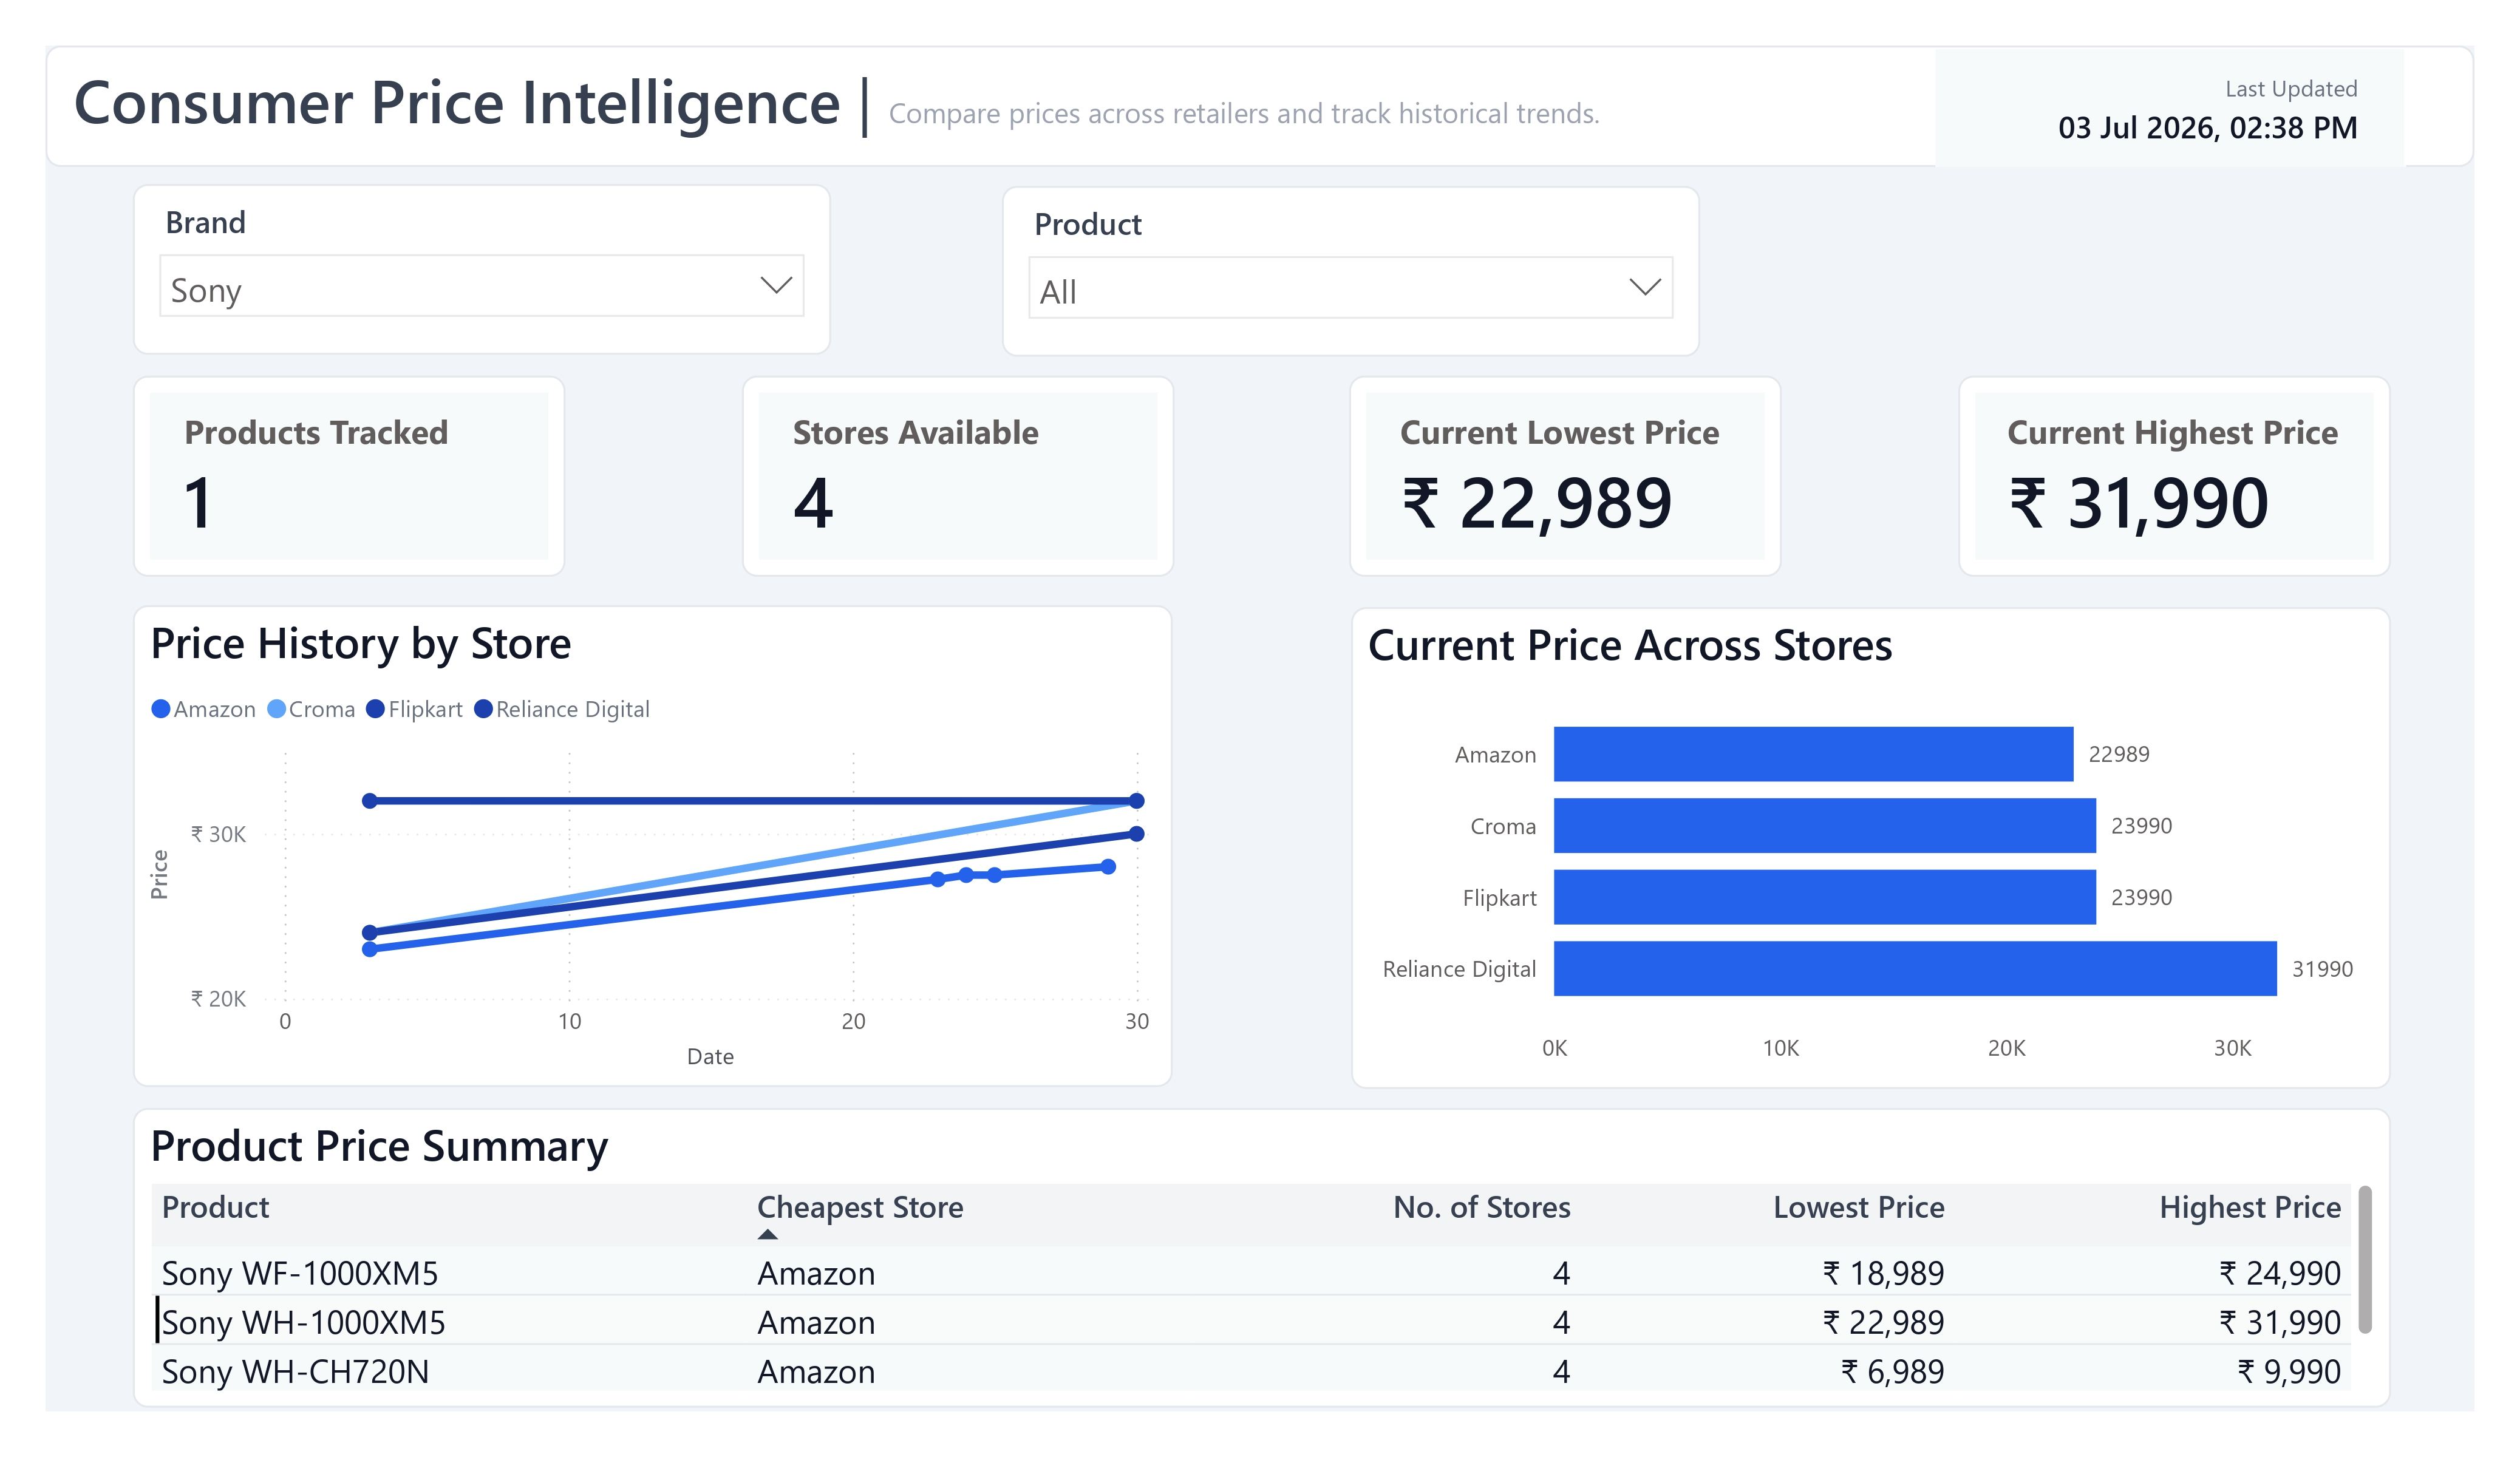

The dashboard page shown, as its layout file describes it:
{"tool":"powerbi","page":{"name":"Consumer Price Intelligence","canvas":[1280,720],"ordinal":0},"visuals":[{"type":"textbox","box":[0,0,1280,64],"z":0},{"type":"slicer","fields":{"Values":["Dim Products.brand_name"]},"box":[46,73,368,90],"z":1000},{"type":"slicer","fields":{"Values":["Dim Products.product_name"]},"box":[504,74,368,90],"z":2000},{"type":"cardVisual","fields":{"Data":["CountNonNull(Consumer Price Summary.product_id)"]},"box":[46,174,228,106],"z":3000},{"type":"cardVisual","fields":{"Data":["Max(Consumer Price Summary.store_count)"]},"box":[366.7,174,228,106],"z":4000},{"type":"cardVisual","fields":{"Data":["Min(Consumer Price Summary.lowest_price)"]},"box":[687.3,174,228,106],"z":5000},{"type":"cardVisual","fields":{"Data":["Max(Consumer Price Summary.highest_price)"]},"box":[1008,174,228,106],"z":6000},{"type":"lineChart","title":"Price History by Store","fields":{"Category":["Price History.scrape_date.Variation.Date Hierarchy.Day"],"Y":["Avg(Price History.price)"],"Series":["Price History.store_name"]},"box":[46,295,548,254],"z":7000},{"type":"clusteredBarChart","title":"Current Price Across Stores","fields":{"Category":["Store Price Comparison.store_name"],"Y":["Min(Store Price Comparison.current_price)"]},"box":[688,296,548,254],"z":8000},{"type":"tableEx","title":"Product Price Summary","fields":{"Values":["Dim Products.product_name","Price Competitiveness.cheapest_store","Sum(Consumer Price Summary.store_count)","Sum(Consumer Price Summary.lowest_price)","Sum(Consumer Price Summary.highest_price)"]},"box":[46,560,1190,158],"z":9000},{"type":"cardVisual","fields":{"Data":["Price History.Last Refresh Display"]},"box":[996,2,248,62],"z":10000}]}

Visuals, with their boxes on the page's 1280x720 design canvas (x1, y1, x2, y2). These are canvas units, not pixel positions in the 2520x1457 screenshot, which may show the page scaled, cropped or inside an application window:
textbox: select_region(0, 0, 1280, 64)
slicer - Dim Products.brand_name: select_region(46, 73, 414, 163)
slicer - Dim Products.product_name: select_region(504, 74, 872, 164)
cardVisual - CountNonNull(Consumer Price Summary.product_id): select_region(46, 174, 274, 280)
cardVisual - Max(Consumer Price Summary.store_count): select_region(367, 174, 595, 280)
cardVisual - Min(Consumer Price Summary.lowest_price): select_region(687, 174, 915, 280)
cardVisual - Max(Consumer Price Summary.highest_price): select_region(1008, 174, 1236, 280)
"Price History by Store" lineChart: select_region(46, 295, 594, 549)
"Current Price Across Stores" clusteredBarChart: select_region(688, 296, 1236, 550)
"Product Price Summary" tableEx: select_region(46, 560, 1236, 718)
cardVisual - Price History.Last Refresh Display: select_region(996, 2, 1244, 64)
